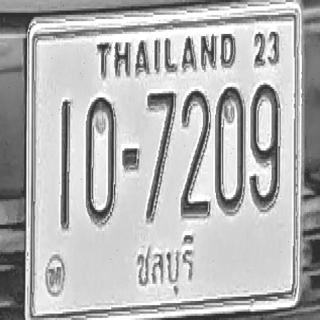N00: (86, 96, 116, 224), (215, 85, 244, 214)
N01: (60, 102, 70, 229)
N02: (180, 89, 210, 218)
N07: (146, 89, 176, 222)
N09: (250, 83, 280, 210)
P13: (133, 234, 196, 297)
